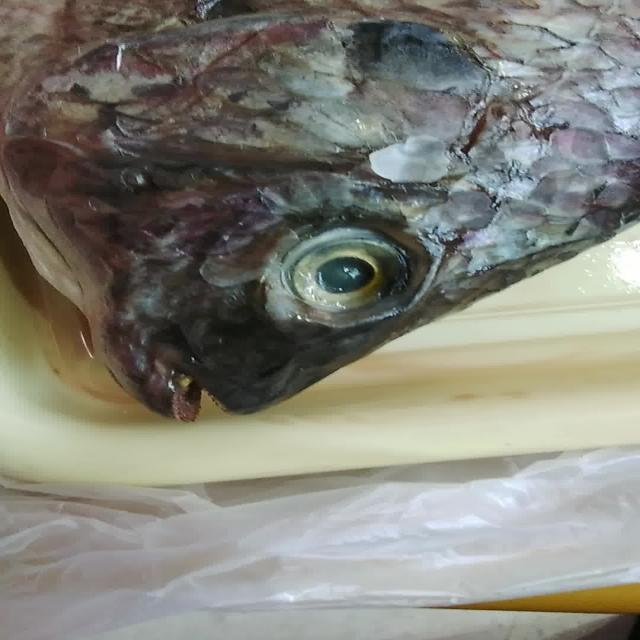Non-Fresh: (13, 7, 640, 200), (263, 207, 450, 340)
